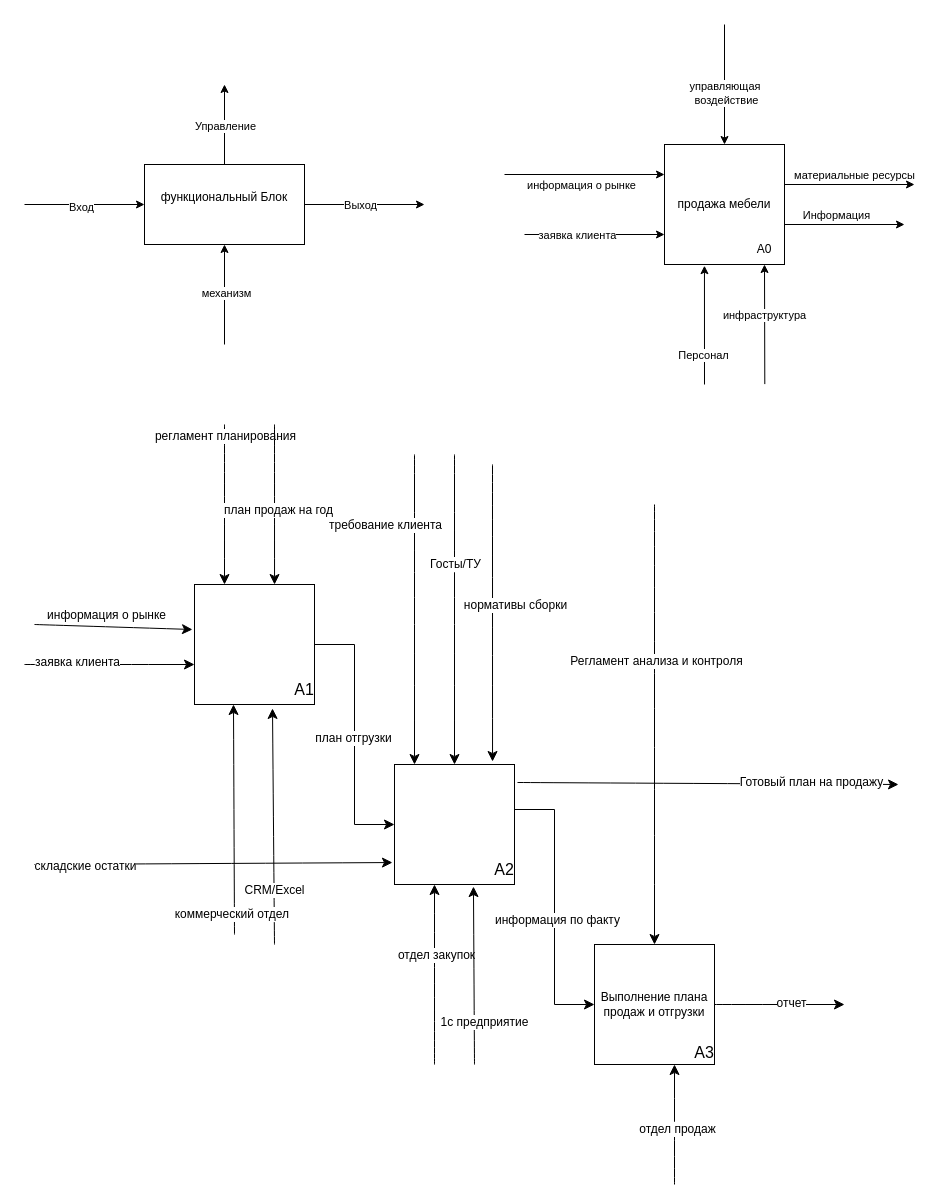
The diagram is 940 pixels wide and 1202 high, and some of its shapes have lost their labels. Each missing label, with the box of its shape:
получение заказа и расчет квоты: (194, 584, 314, 704)
Резервирование ресурсов и склада под продажу: (394, 764, 514, 884)
